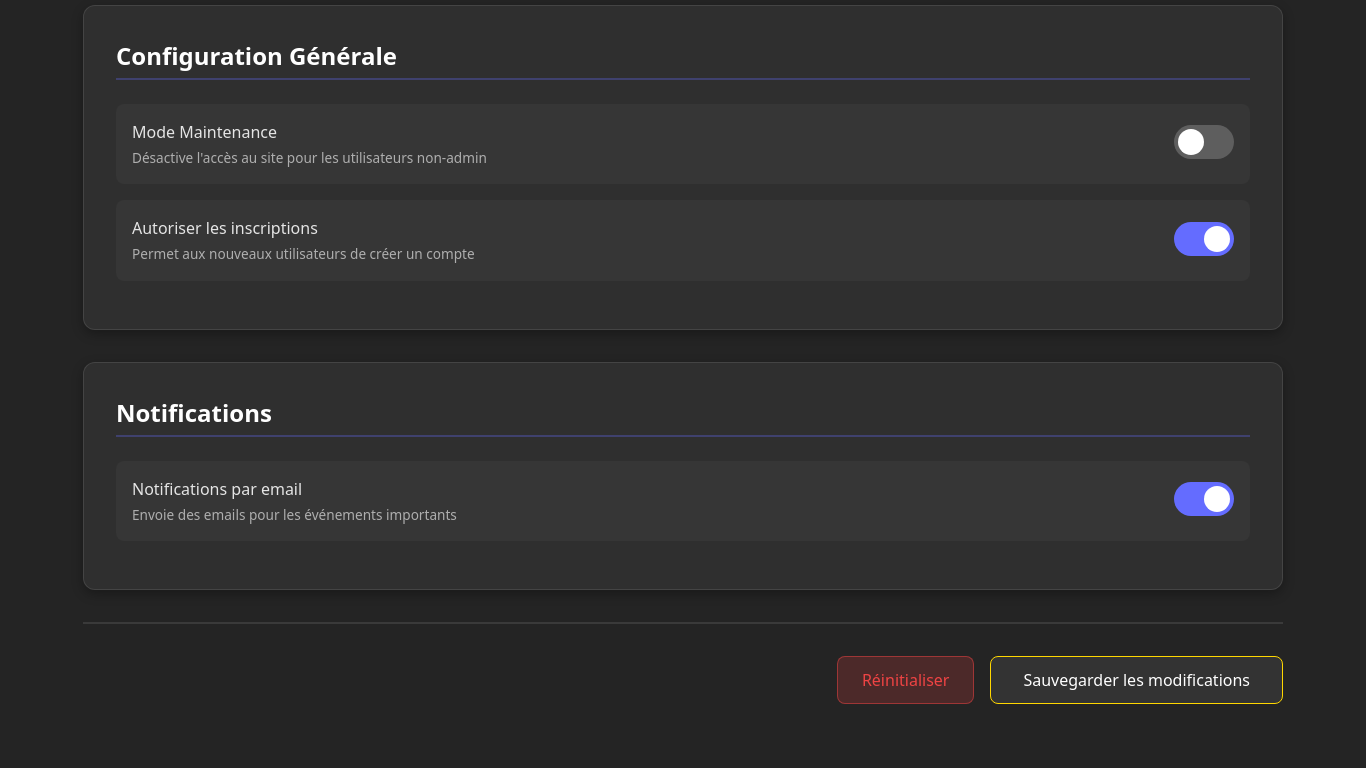
Test: AdminSettingsPage › shows success message when settings are saved
(page scrolled)
Click the button "Sauvegarder les modifications": (1137, 680) x1=990 y1=656 x2=1283 y2=704
(page scrolled)
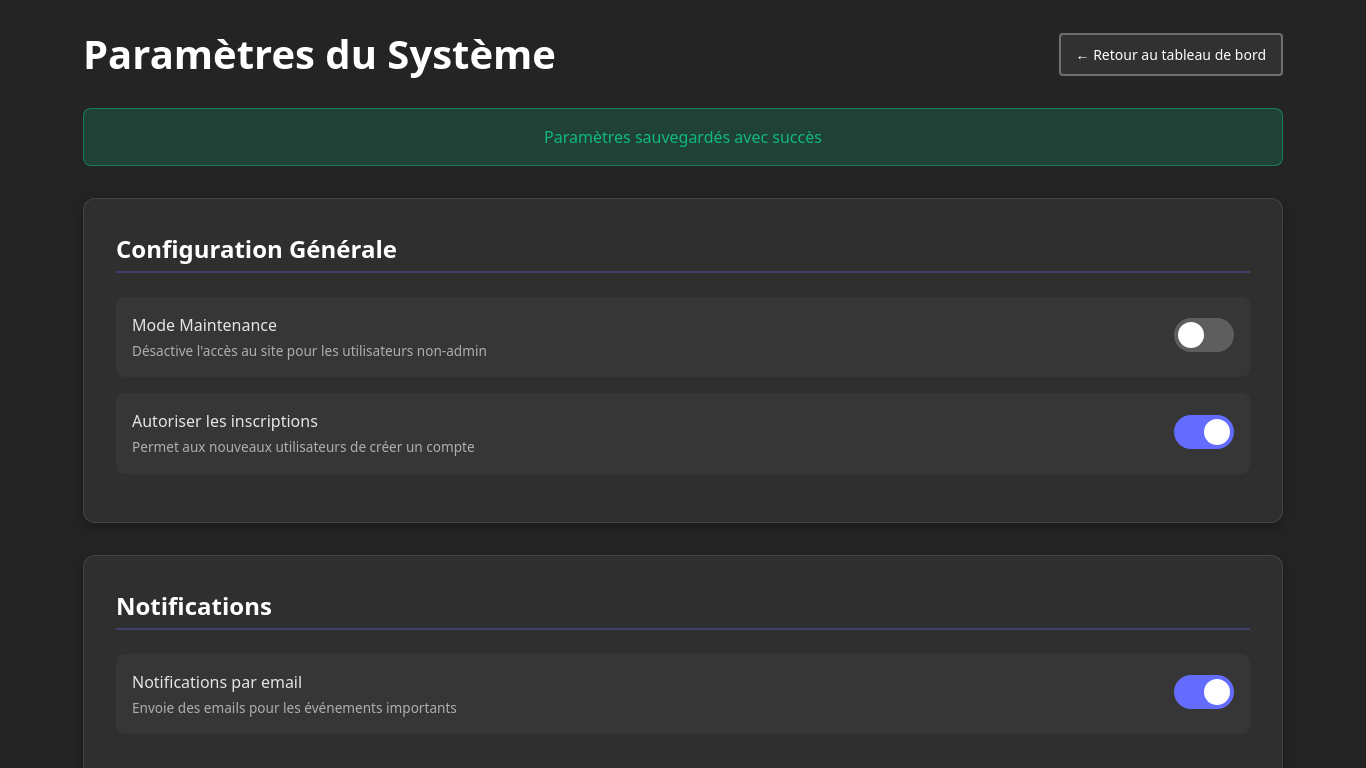
Expected: the text "Paramètres sauvegardés avec succès" is shown, x1=83 y1=108 x2=1283 y2=166
